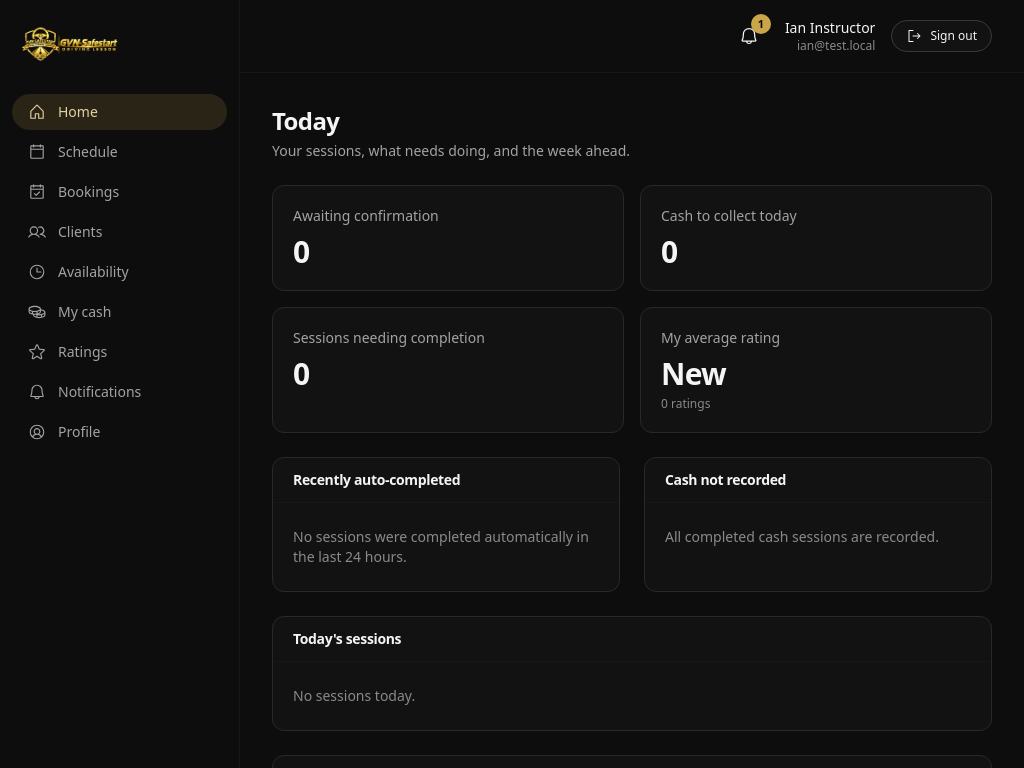
Test: notification bell › polls every 30 seconds and opens the related booking with its history
Click the button named "Notifications, 1 unread": (749, 36) [729,16,769,56]
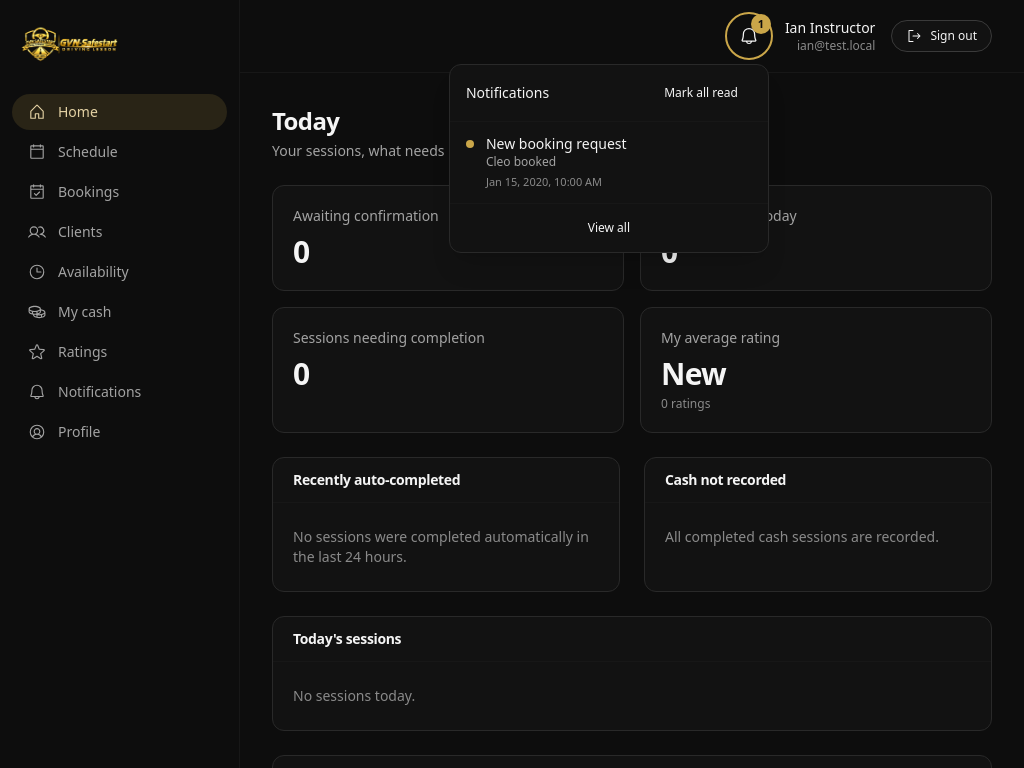
Click the button "New booking request Cleo booked Jan 15, 2020, 10:00 AM": (556, 144) [450,122,768,202]
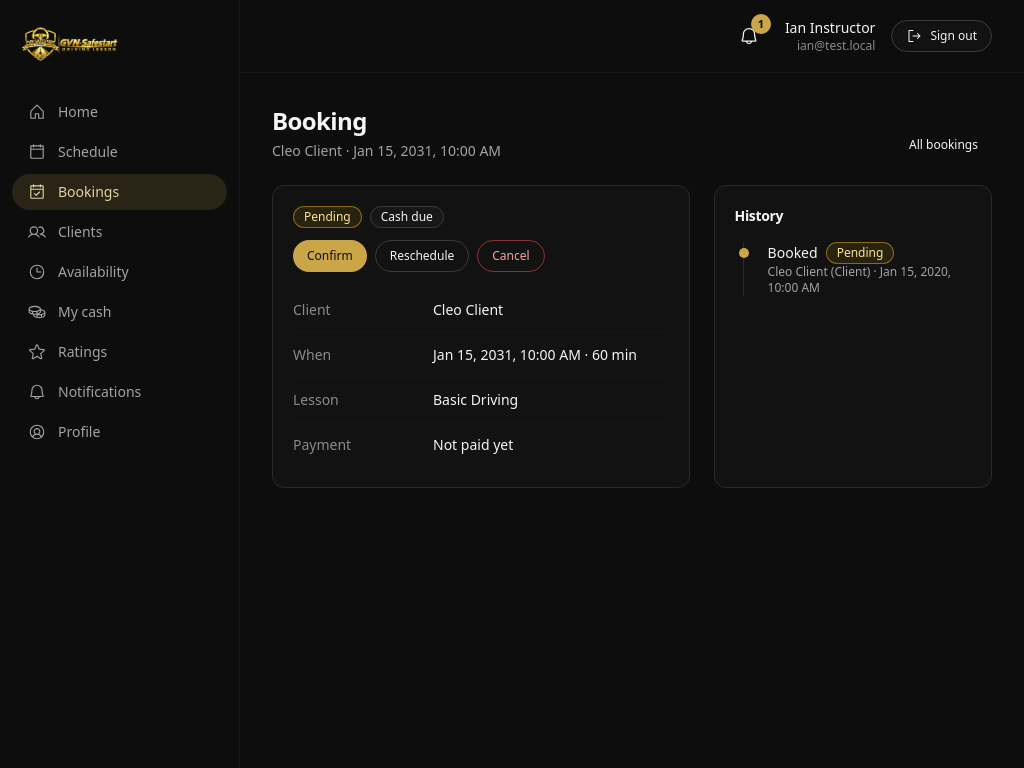
Expected: the text "Booked" is shown, [768,243,818,263]
Expected: the heading "Booking" is shown, [272,104,367,137]
Expected: the text "Cleo Client (Client) · Jan 15, 2020, 10:00 AM" is shown, [768,264,971,296]
